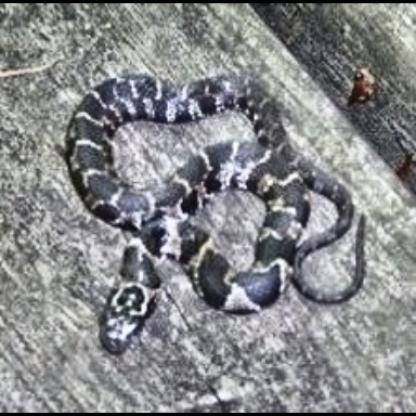Snake: (62, 67, 359, 362)
